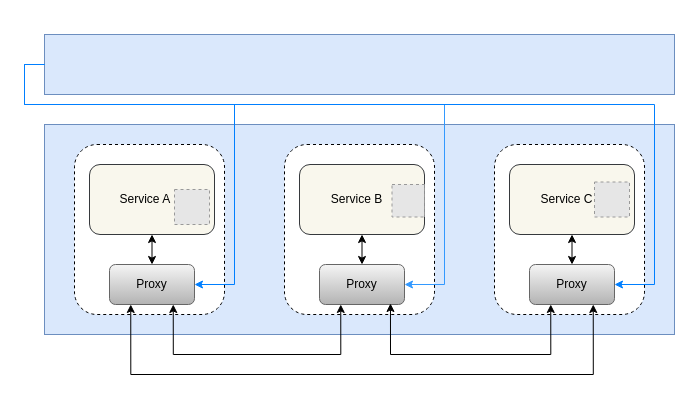
This 692x401 diagram has some shape labels left out. Grey dashed boxes stand in for pictures. Each missing label, with the box of its shape:
Service mesh Control plan: (44, 34, 674, 94)
Service mesh Data plane: (44, 124, 674, 334)
